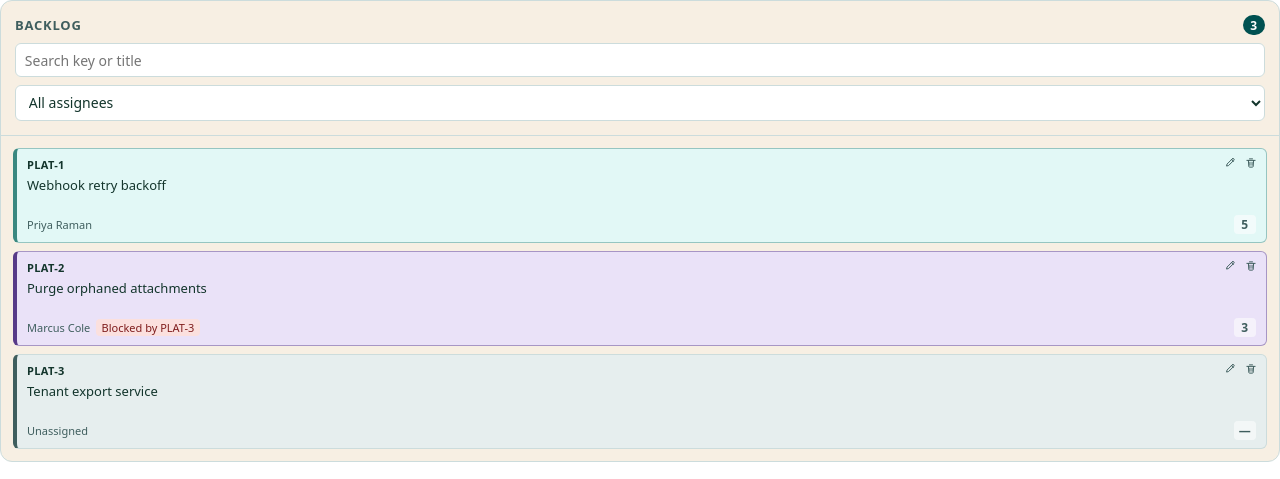
Test case: Backlog › searches by key and title
The image size is (1280, 479).
In the search field named "Search backlog": (640, 60) [15,43,1265,77], type "orphaned"
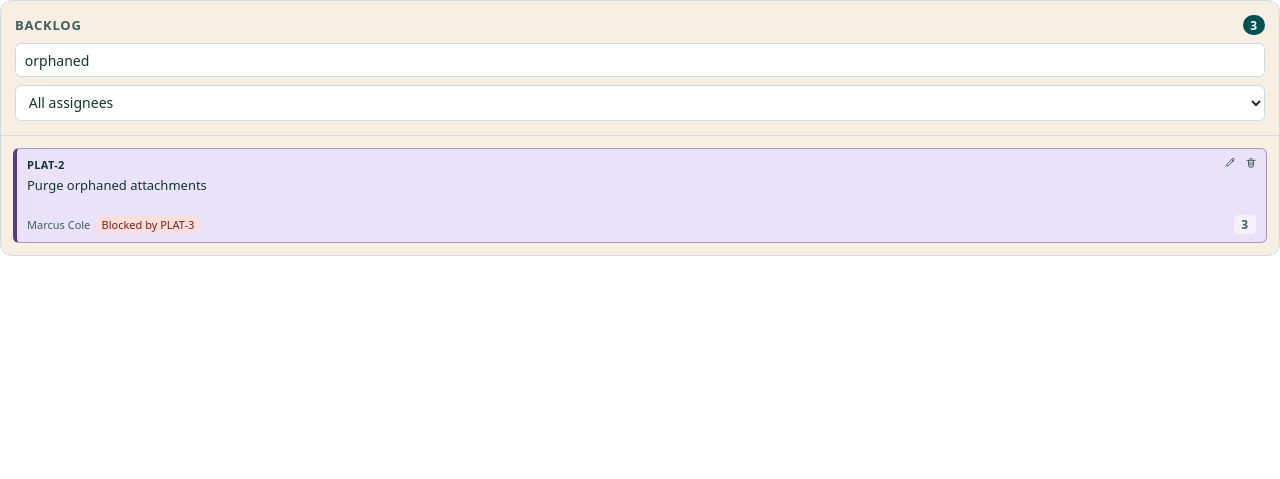
Expected: the text "Purge orphaned attachments" is shown, [27,176,207,194]
Expected: the number of list items is 1, [13,148,1267,243]
Replace the text in the search field named "Search backlog" with "plat-1": (640, 60) [15,43,1265,77]
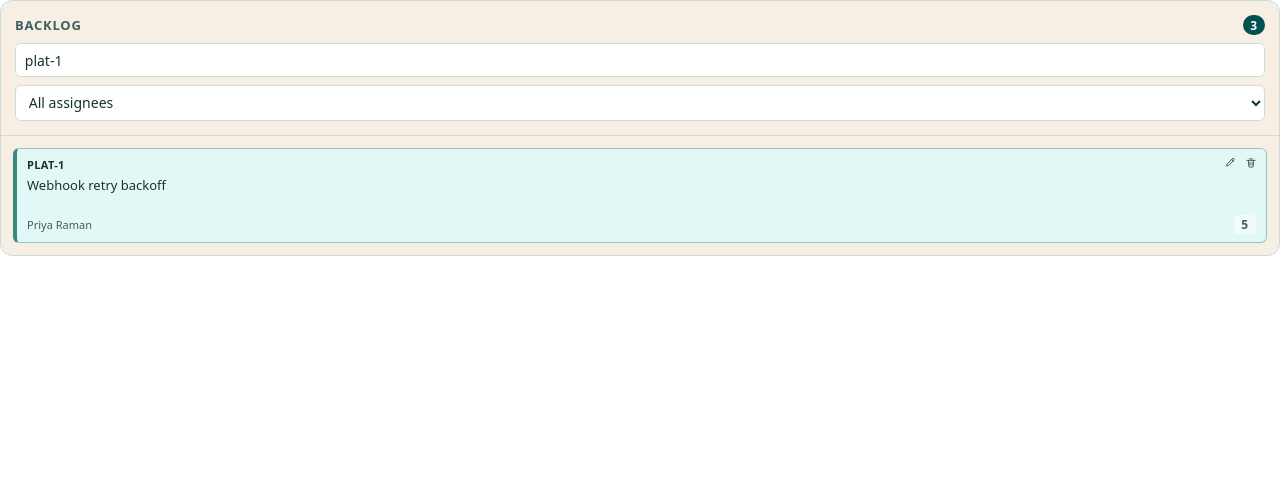
Expected: the number of list items is 1, [13,148,1267,243]
Expected: the text "Webhook retry backoff" is shown, [27,176,166,194]
